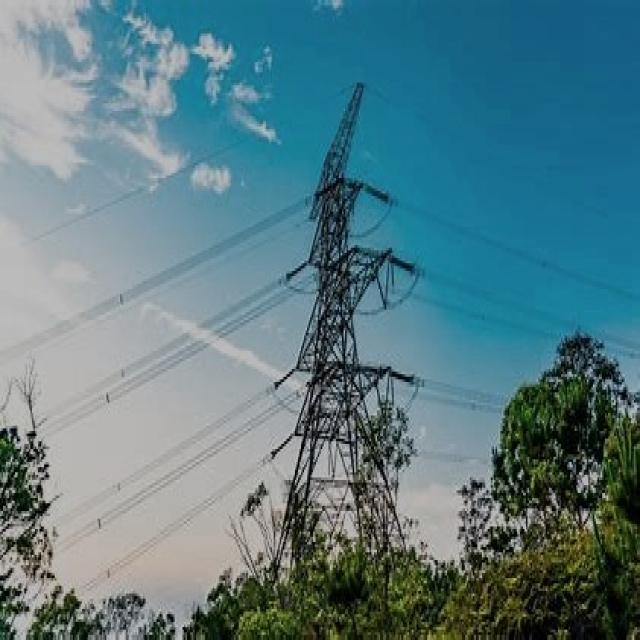utility poles: (486, 302, 628, 567), (295, 362, 424, 606)
